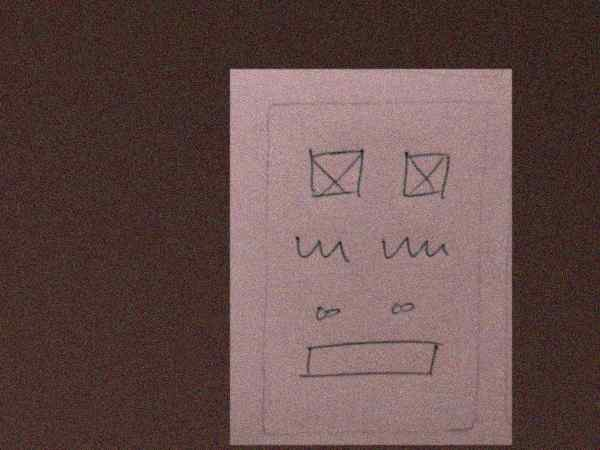image: (302, 141, 370, 203), (393, 146, 459, 208)
switch: (384, 293, 423, 320), (307, 298, 347, 323)
text: (292, 230, 356, 273), (376, 231, 452, 265)
text_input: (288, 338, 450, 383)
